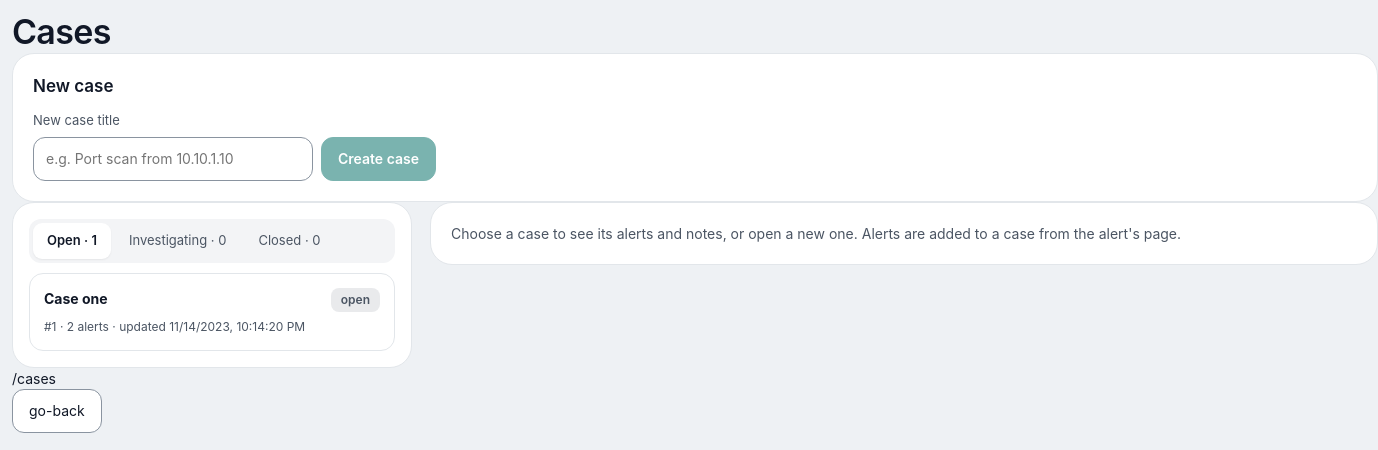
Test case: case list › empty message for a tab
This screenshot has width=1378, height=450.
Click the button "Closed · 0". click: [289, 241]
box: [244,223,334,259]
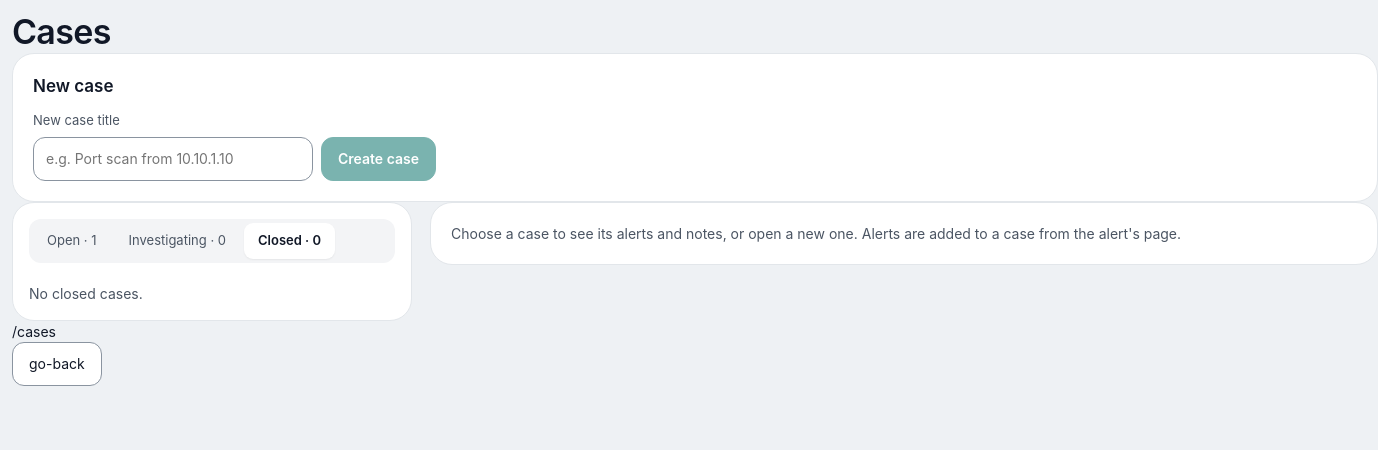
Check: the text "No closed cases." is shown, box [29,285,143,302]
